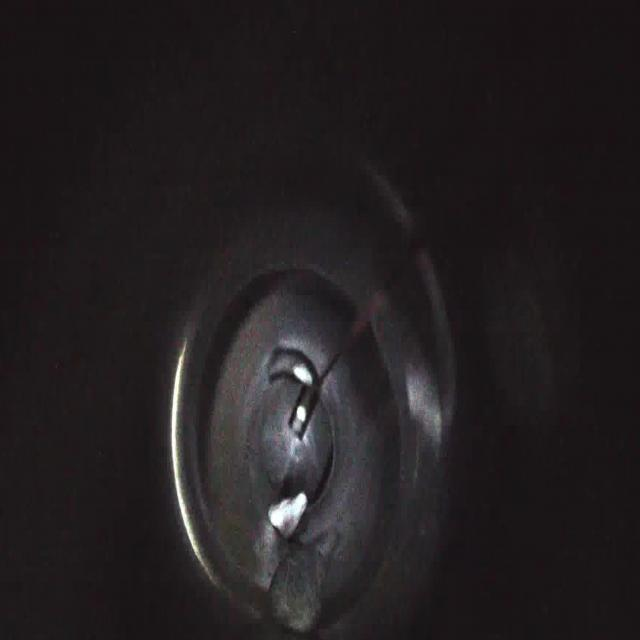impurity: (253, 543, 327, 640), (261, 484, 311, 544)
